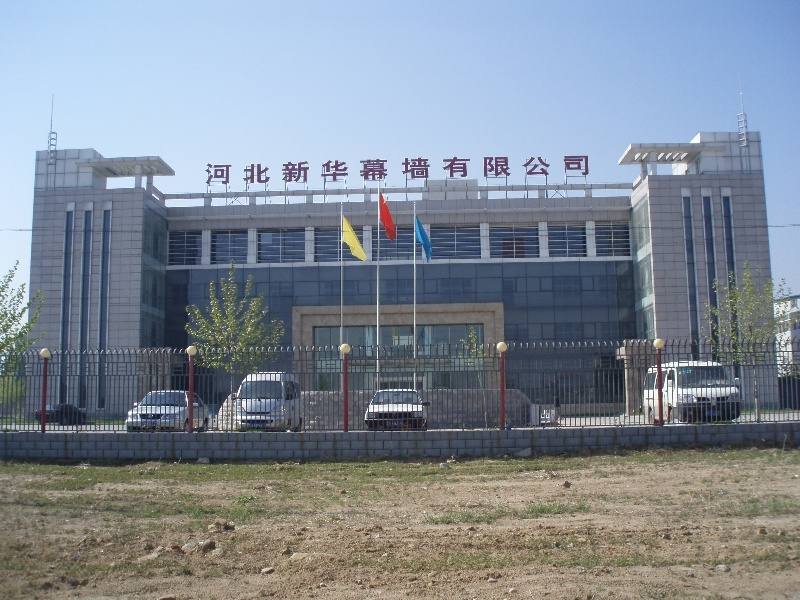text: (209, 153, 224, 187), (225, 153, 240, 187), (241, 153, 256, 187), (257, 153, 272, 187), (273, 153, 288, 187), (289, 153, 304, 187), (305, 153, 320, 187), (321, 153, 336, 187), (337, 153, 352, 187), (353, 153, 368, 187), (369, 153, 384, 187), (385, 153, 400, 187), (401, 153, 416, 187), (417, 153, 432, 187), (433, 153, 448, 187), (449, 153, 464, 187), (465, 153, 480, 187), (481, 153, 496, 187), (497, 153, 512, 187), (513, 153, 528, 187), (529, 153, 544, 187), (545, 153, 560, 187), (561, 153, 576, 187), (577, 153, 592, 187), (203, 153, 208, 187), (706, 411, 720, 416), (387, 422, 400, 426), (257, 424, 265, 429), (145, 423, 158, 426), (249, 424, 256, 429), (401, 422, 403, 426), (721, 411, 722, 416), (143, 423, 144, 426)
